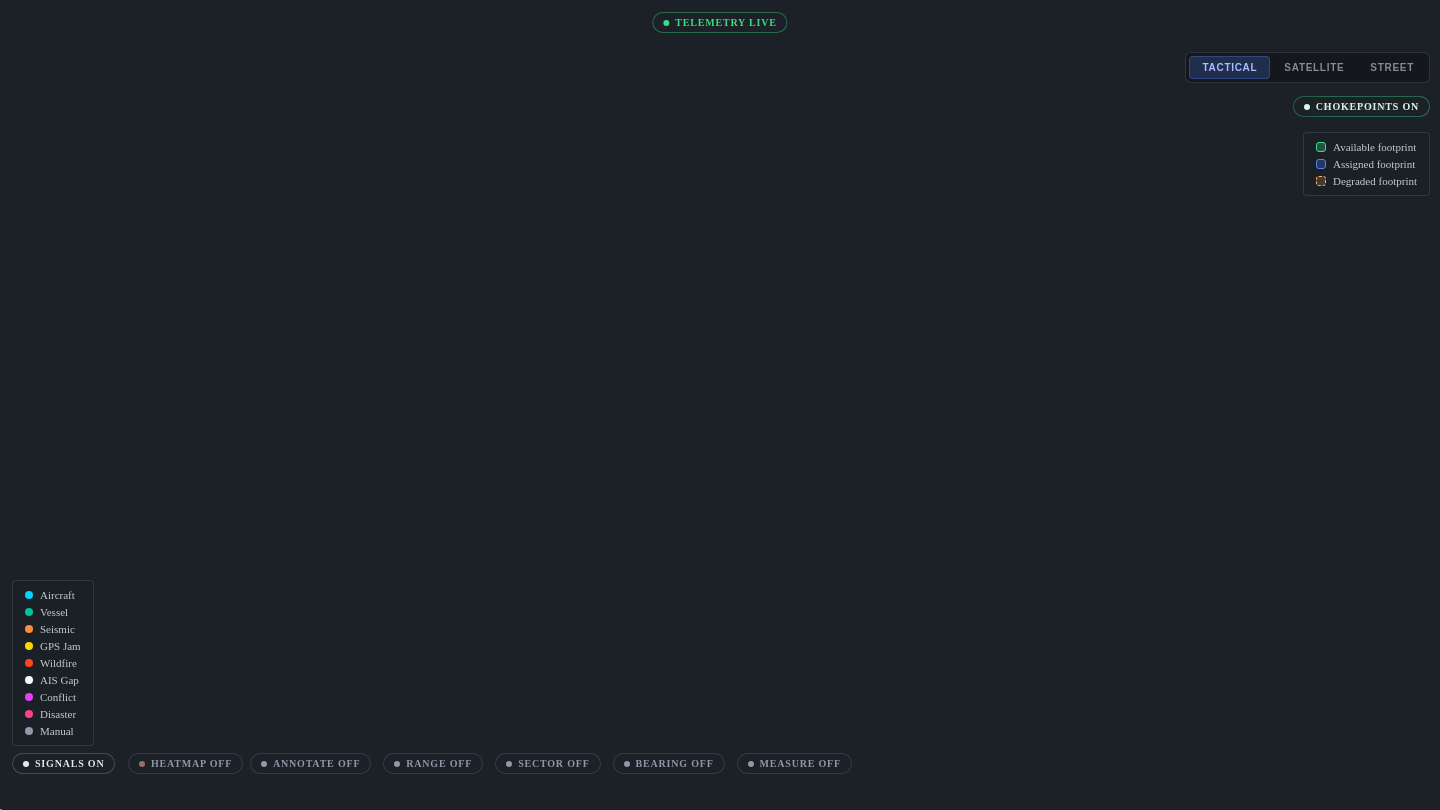
Test: MapPage selection routing › toggles the chokepoint overlay and legend through page state
The width and height of the screenshot is (1440, 810).
Click the button with aria-label "Toggle chokepoint overlay". click: (1361, 106)
box: [1293,96,1430,117]
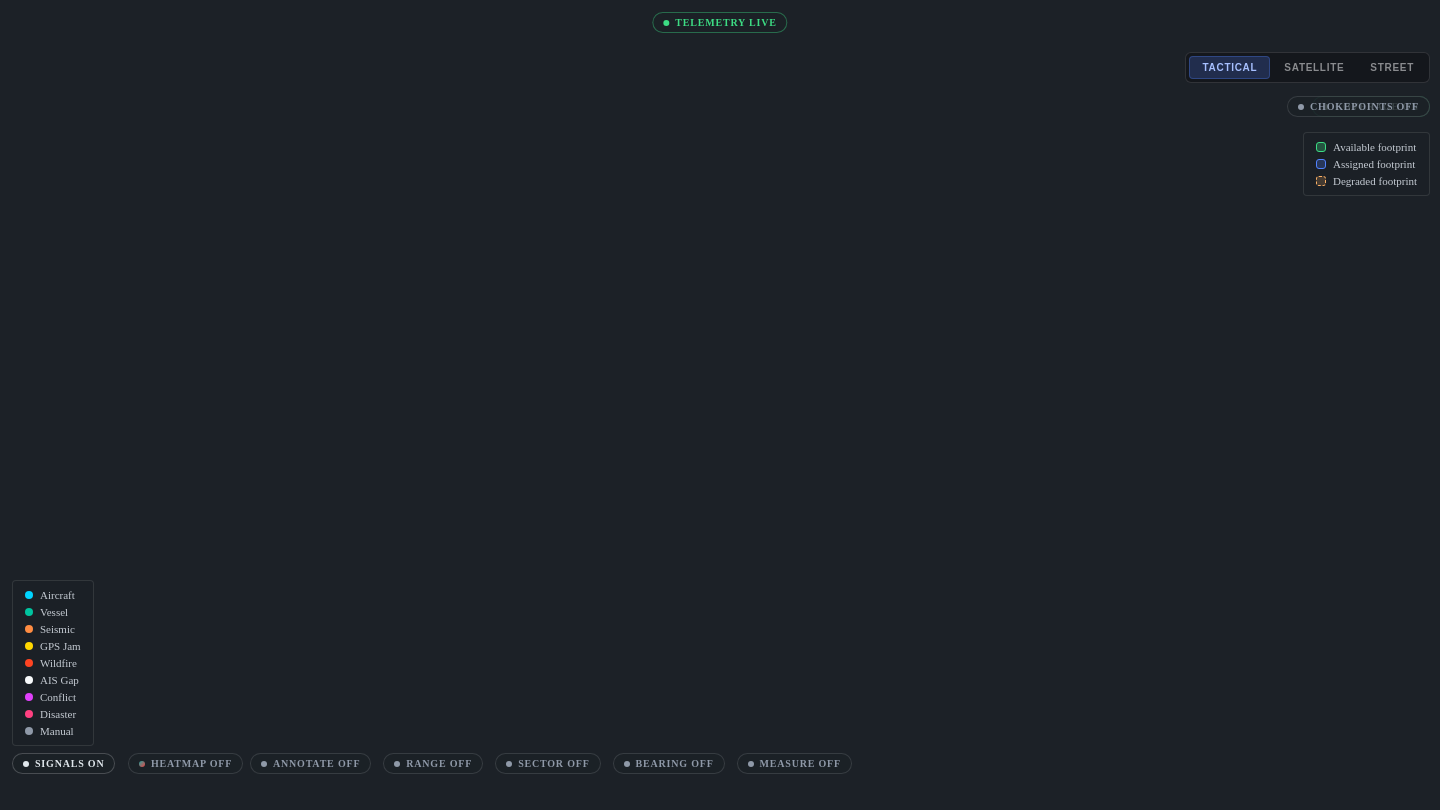
Check: the button with aria-label "Toggle chokepoint overlay" reads "CHOKEPOINTS OFF", box [1287,96,1430,117]
Check: the text "Monitor" is gone
